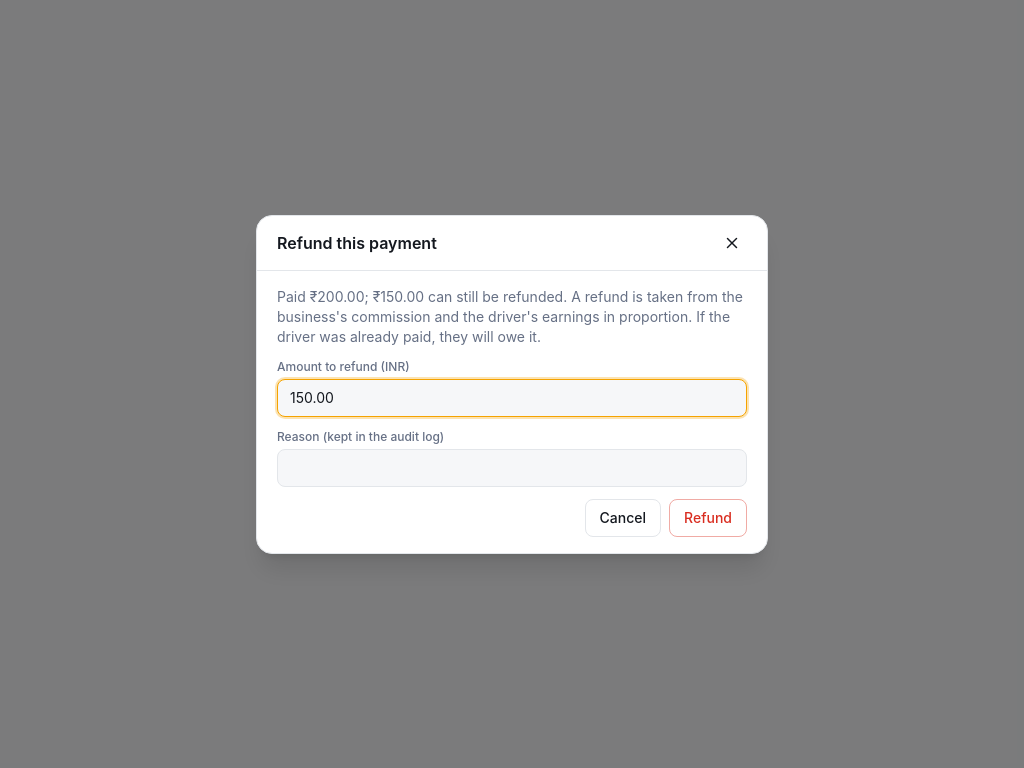
Test case: refunding a payment › starts with everything that is left, and refuses more than that or a missing reason
Replace the text in the field labelled "Amount to refund (INR)" with "150.01": (512, 398) [277,378,747,416]
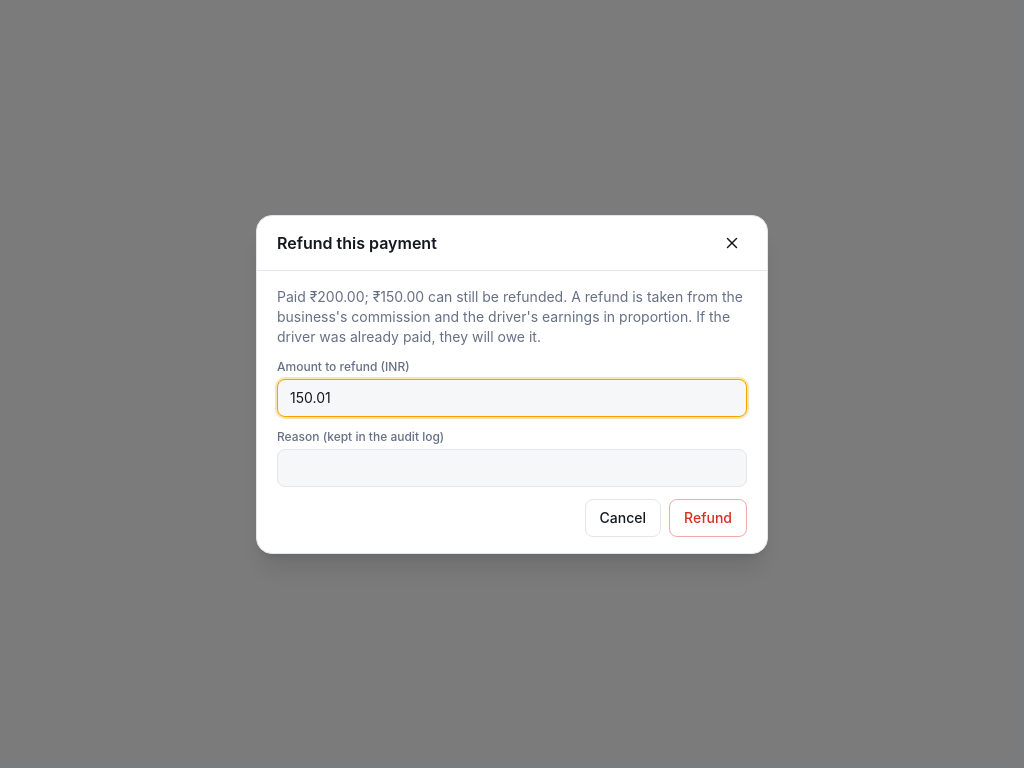
Click the button "Refund": (708, 518) [669,498,747,536]
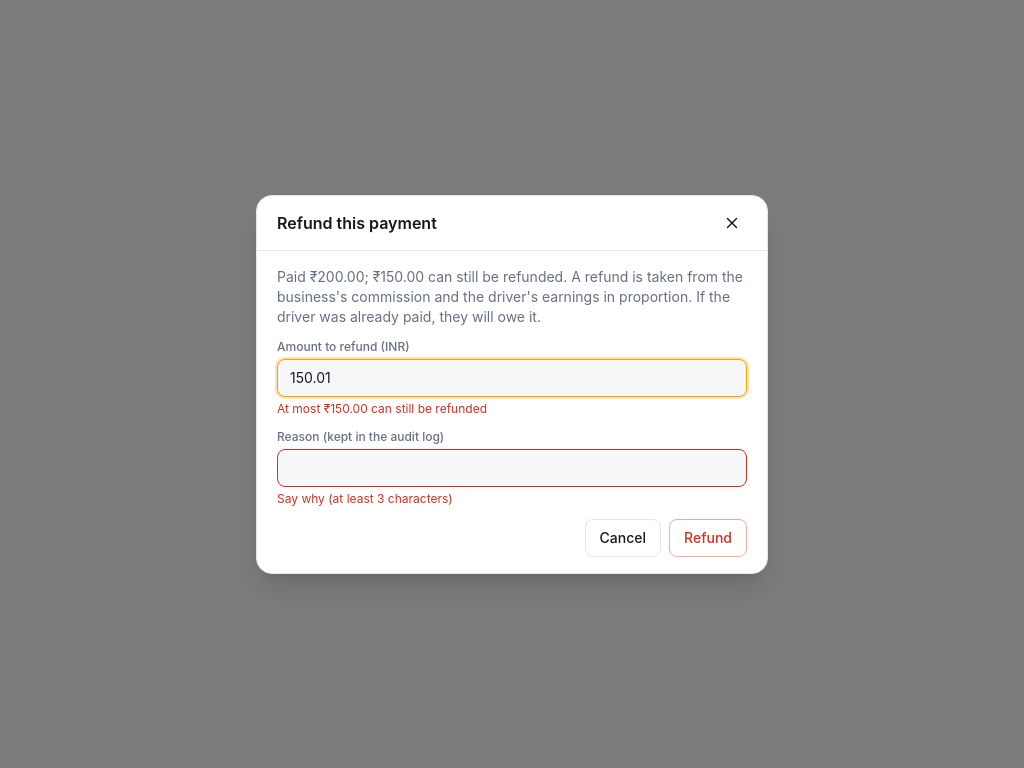
Result: the text "At most ₹150.00 can still be refunded" is shown at [277,400,487,416]
Result: the text "Say why (at least 3 characters)" is shown at [277,490,453,506]
